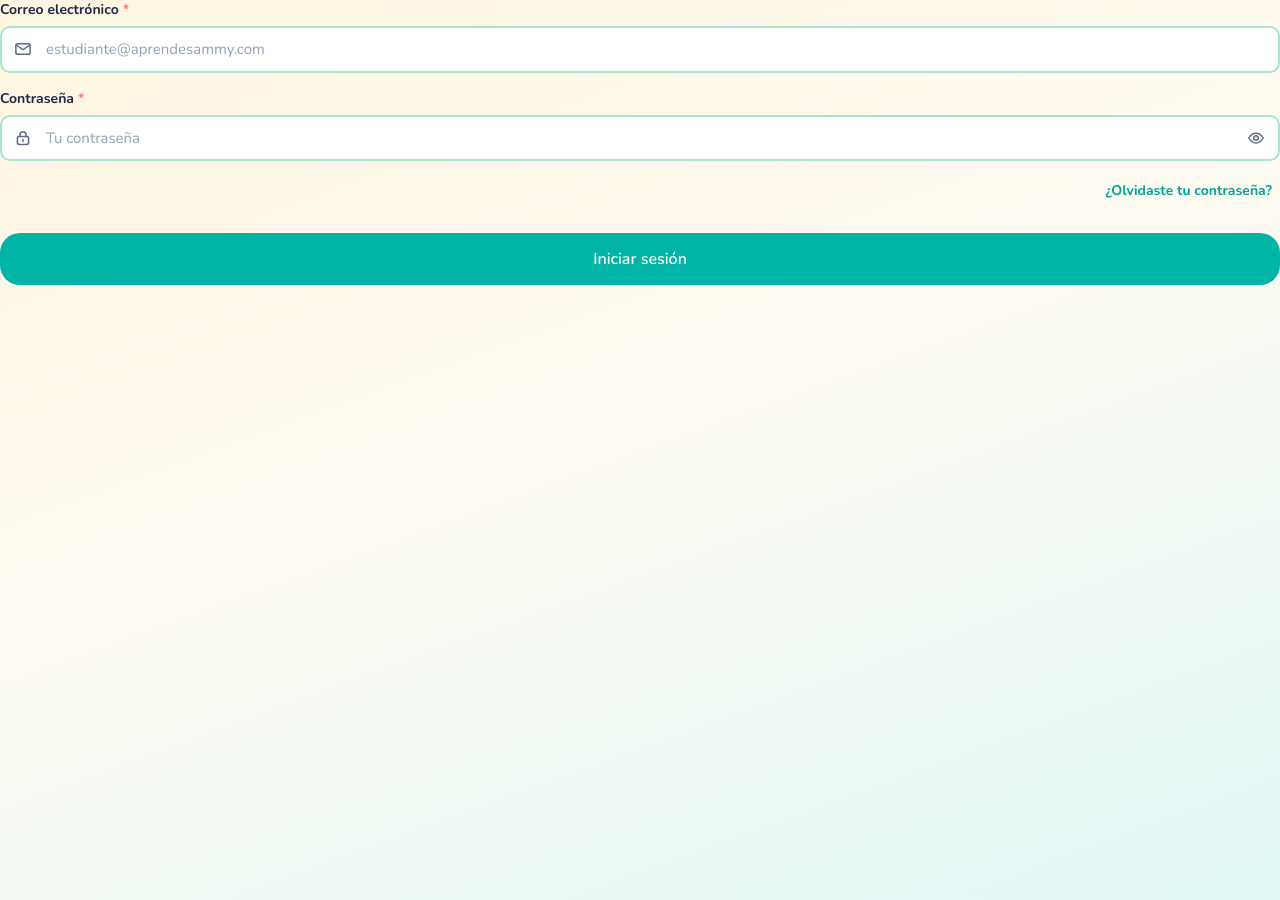
LoginForm — recuperación de contraseña › se abre con el email ya escrito y expone su estado ARIA
Type "ana@sammy.cl" into the field labelled "Correo electrónico*".
click(640, 49); type("ana@sammy.cl")  # box [0,26,1279,72]
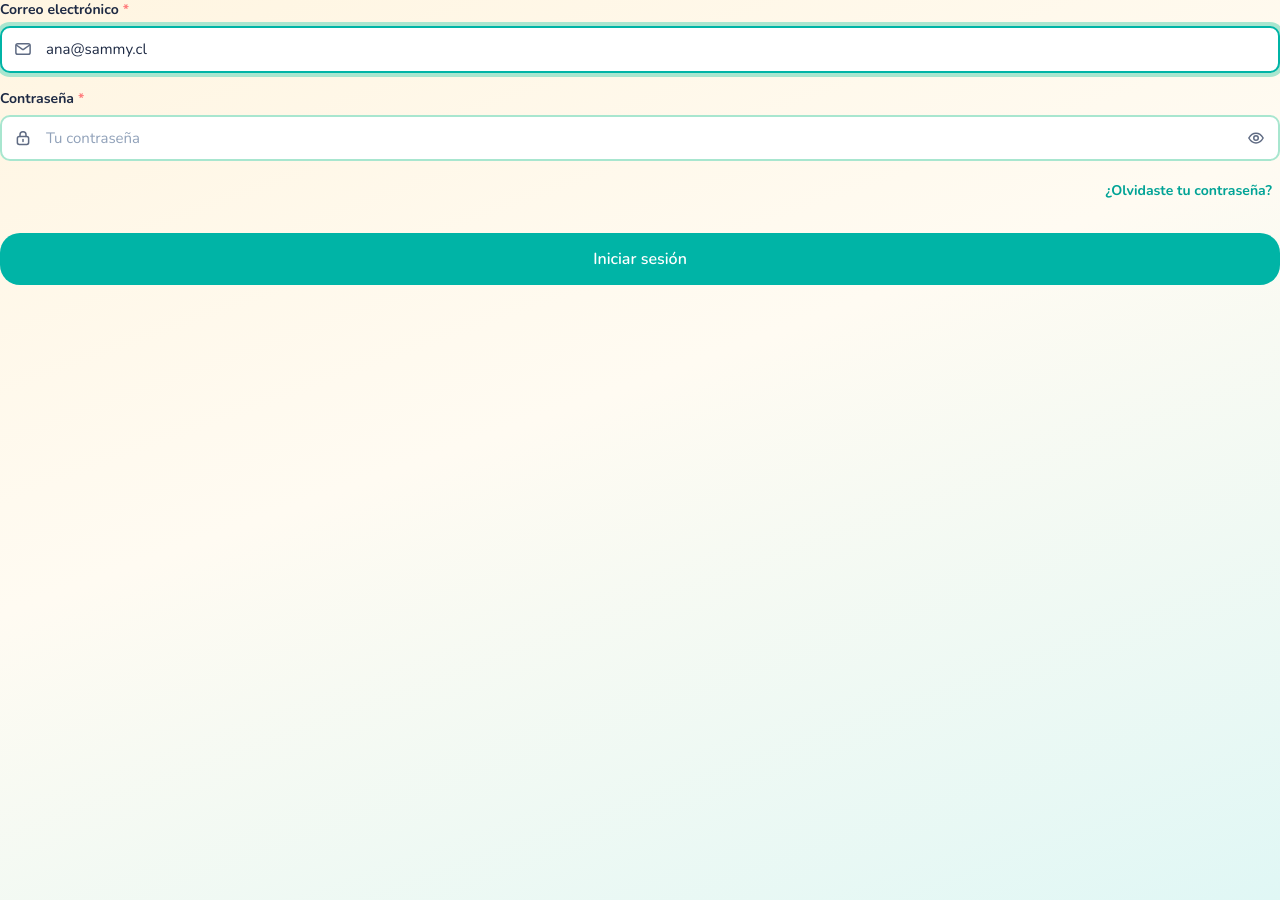
Click the button "¿Olvidaste tu contraseña?".
click(1189, 191)  # box [1098,173,1279,209]
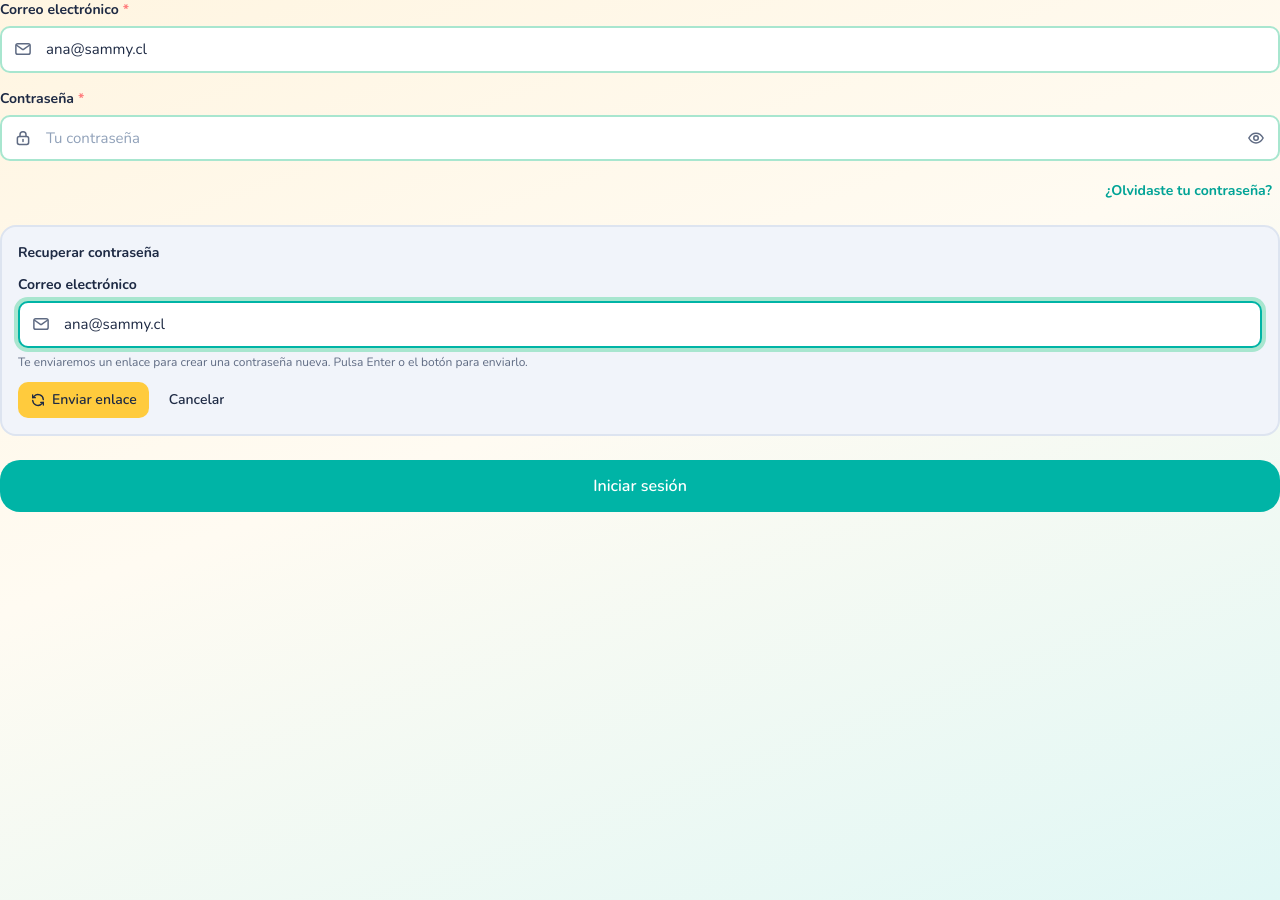
Expected: the text "Recuperar contraseña" is shown, [18,243,160,262]
